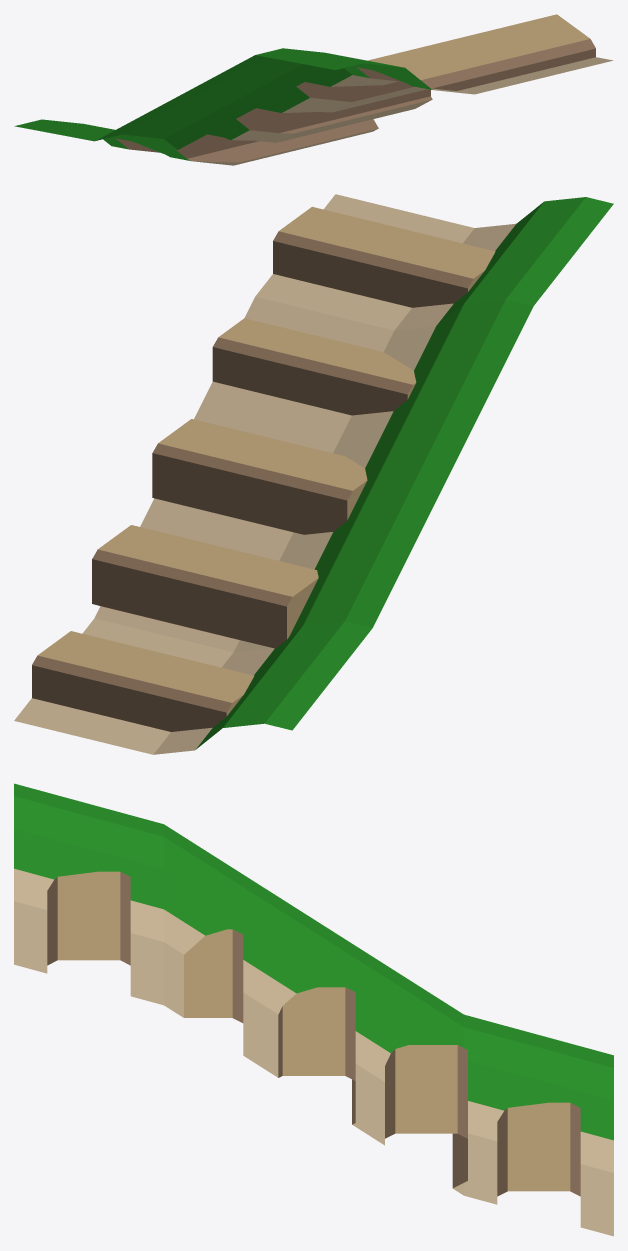
Rendered from Hilly_Terrain_Path_Hill_Sharp_Steps_Side.obj.
3 views of the same model, one above another, from view 1: azimuth 30°, elevation 25°; view 2: azimuth 150°, elevation 25°; view 3: azimuth 270°, elevation 25° (orthographic). The views are drawn at different scales.
Parts seen in each view (by area): view 1: object1; view 2: object1; view 3: object1.
Part boxes in pixels (bbox=[...]): object1: bbox=[14, 14, 613, 165]; object1: bbox=[14, 194, 613, 754]; object1: bbox=[14, 783, 613, 1236].
Size of the model in its own units: 1 by 1.2 by 2.
